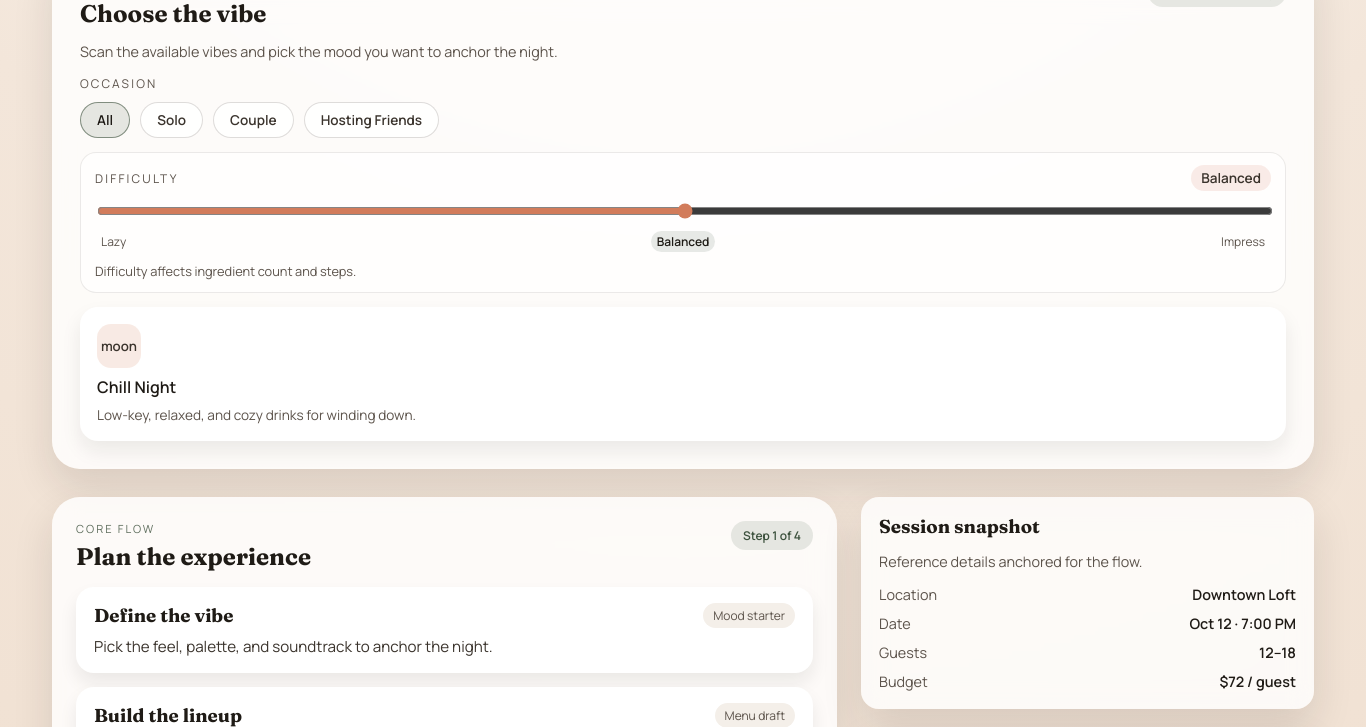
AppLayout recipe modal › renders ingredients and steps from the selected recipe
(page scrolled)
Click the button "Chill Night": point(683, 374) [80, 307, 1286, 441]
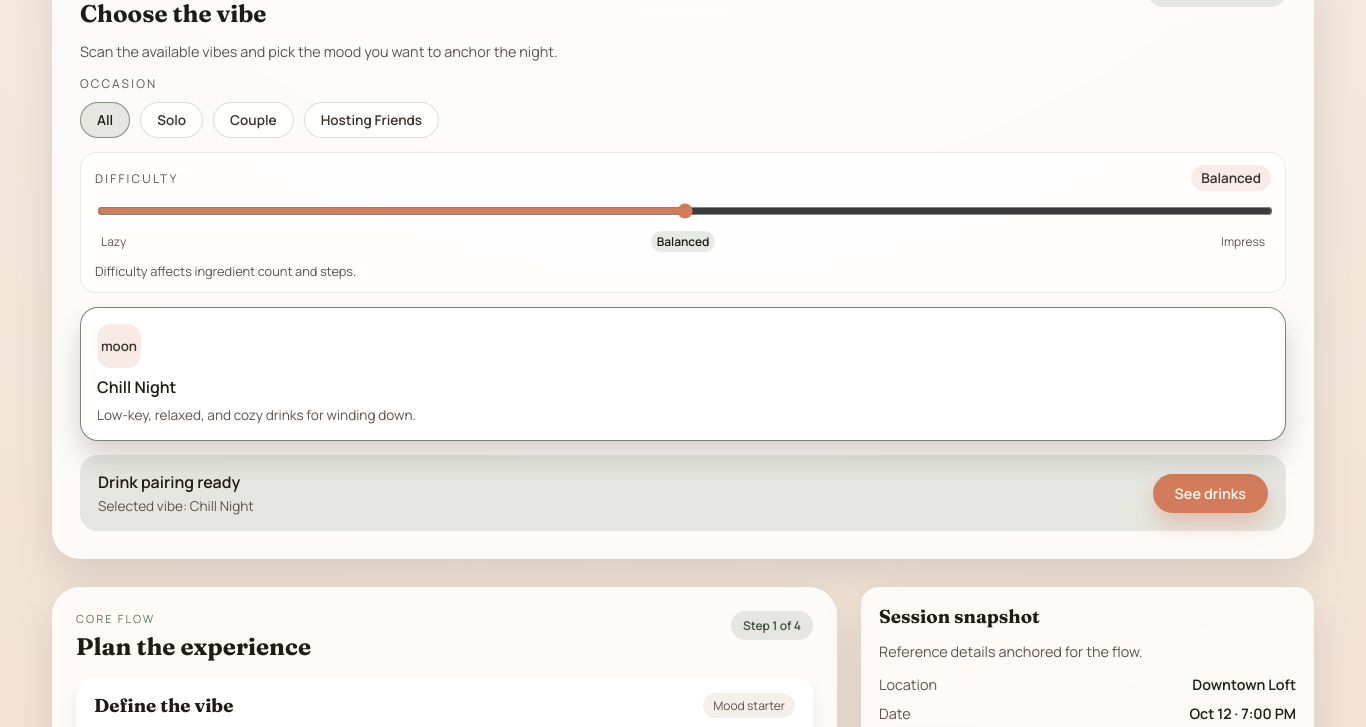
Click the button "See drinks": point(1210, 493) [1153, 474, 1268, 512]
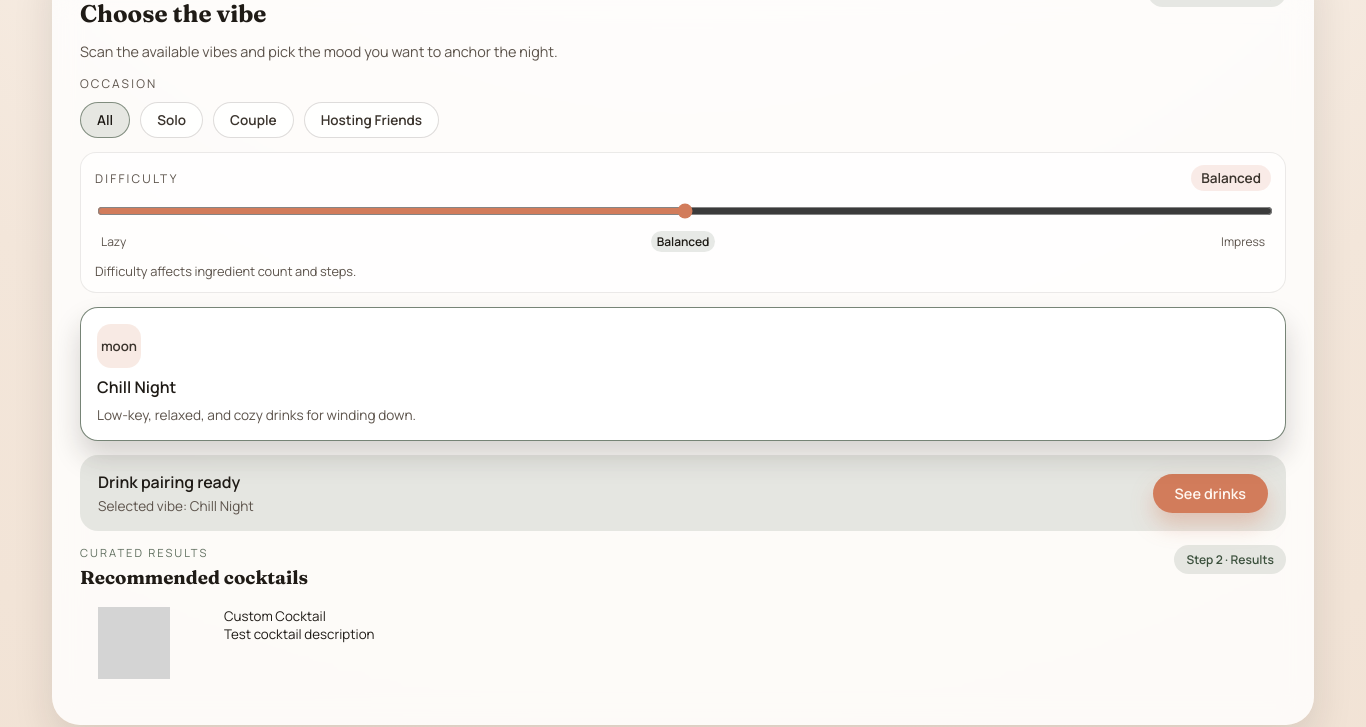
Click the button with aria-label "View Custom Cocktail recipe": point(134, 643) [80, 589, 1286, 697]
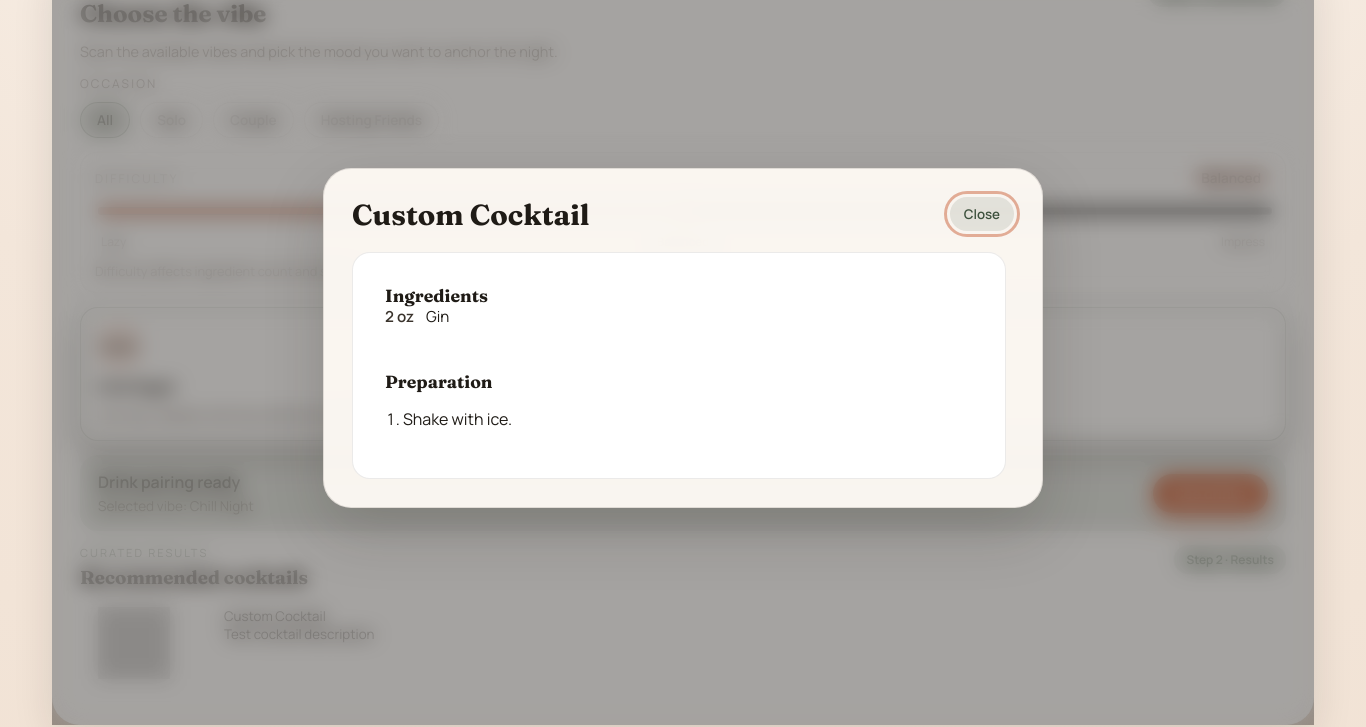
Expected: the heading "Ingredients" is shown, [385, 284, 488, 306]
Expected: the text "Gin" is shown, [426, 306, 449, 326]
Expected: the text "2 oz" is shown, [385, 306, 414, 326]
